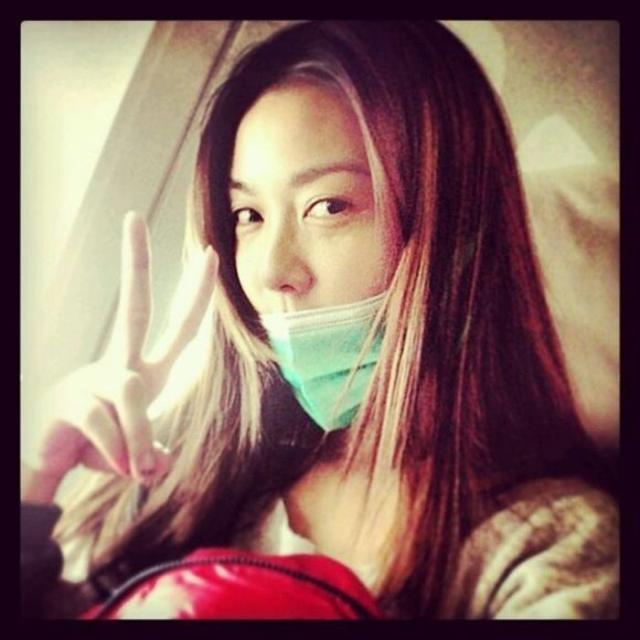mask: (218, 78, 422, 401)
